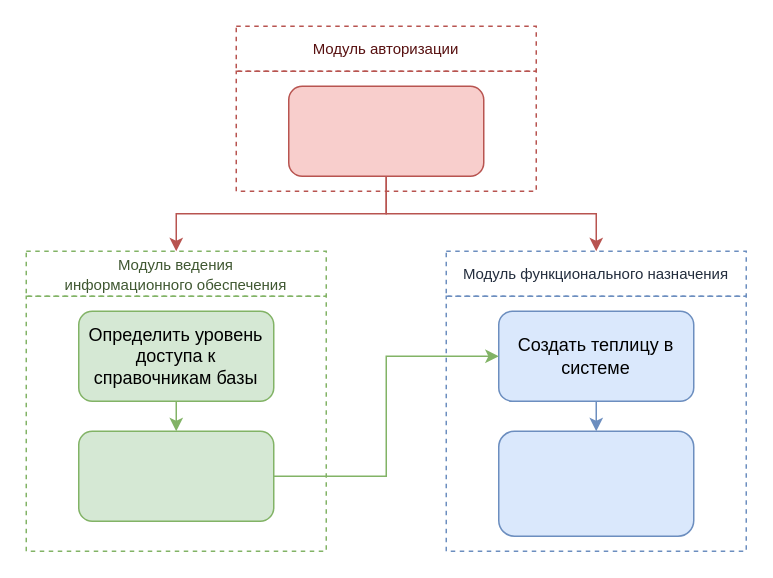
The diagram is 773 pixels wide and 578 high, and some of its shapes have lost their labels. The centre of each missing label's shape, as x and y in pixels:
Внести изменения в информационную базу: the point at 175,475
Вход в систему: the point at 385,130
Сформировать техническое и программное обеспечение для теплицы: the point at 595,483
